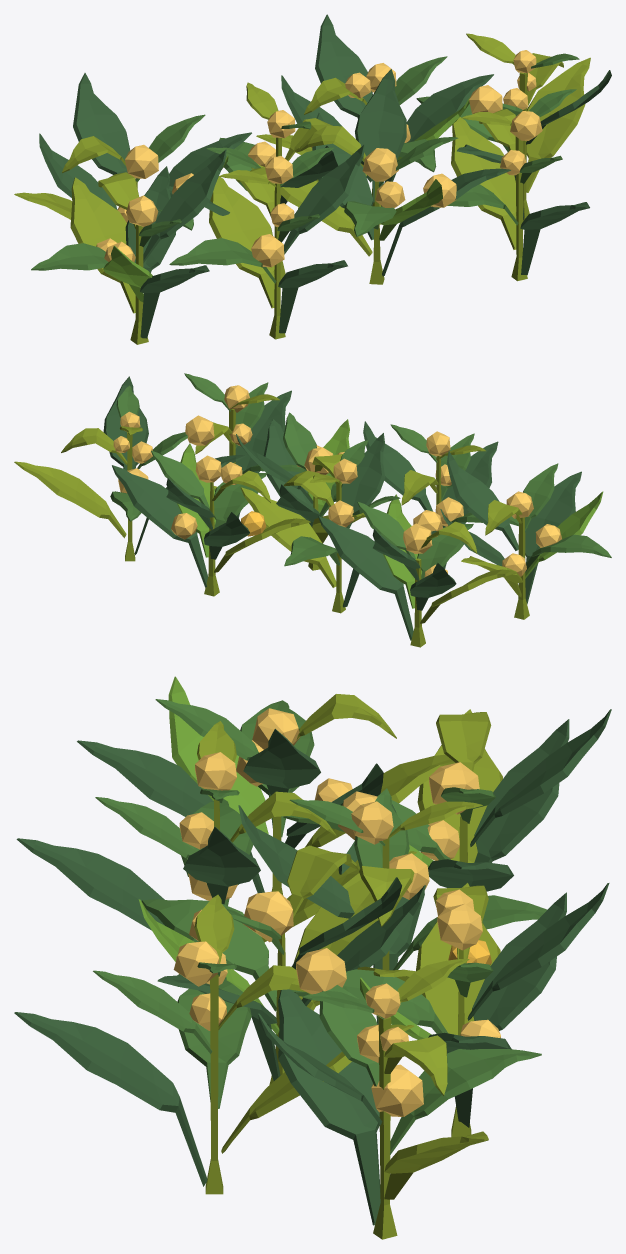
File: EA_M_Env_Flower_Claster_01c.fbx
The picture shows the model from 3 angles, top to bottom: view 1: azimuth 30°, elevation 25°; view 2: azimuth 150°, elevation 25°; view 3: azimuth 270°, elevation 25°; orthographic projection. The views are drawn at different scales.
Parts seen in each view (by area): view 1: EA_M_Env_Flower_Claster_01c_LOD0; view 2: EA_M_Env_Flower_Claster_01c_LOD0; view 3: EA_M_Env_Flower_Claster_01c_LOD0.
Boxes of the visible parts, <box> form: EA_M_Env_Flower_Claster_01c_LOD0: <box>14,14,611,344</box>; EA_M_Env_Flower_Claster_01c_LOD0: <box>14,373,611,647</box>; EA_M_Env_Flower_Claster_01c_LOD0: <box>14,676,611,1239</box>.
Size of what is drawn, in the model's own units: 2.23 by 0.6092 by 1.24.
